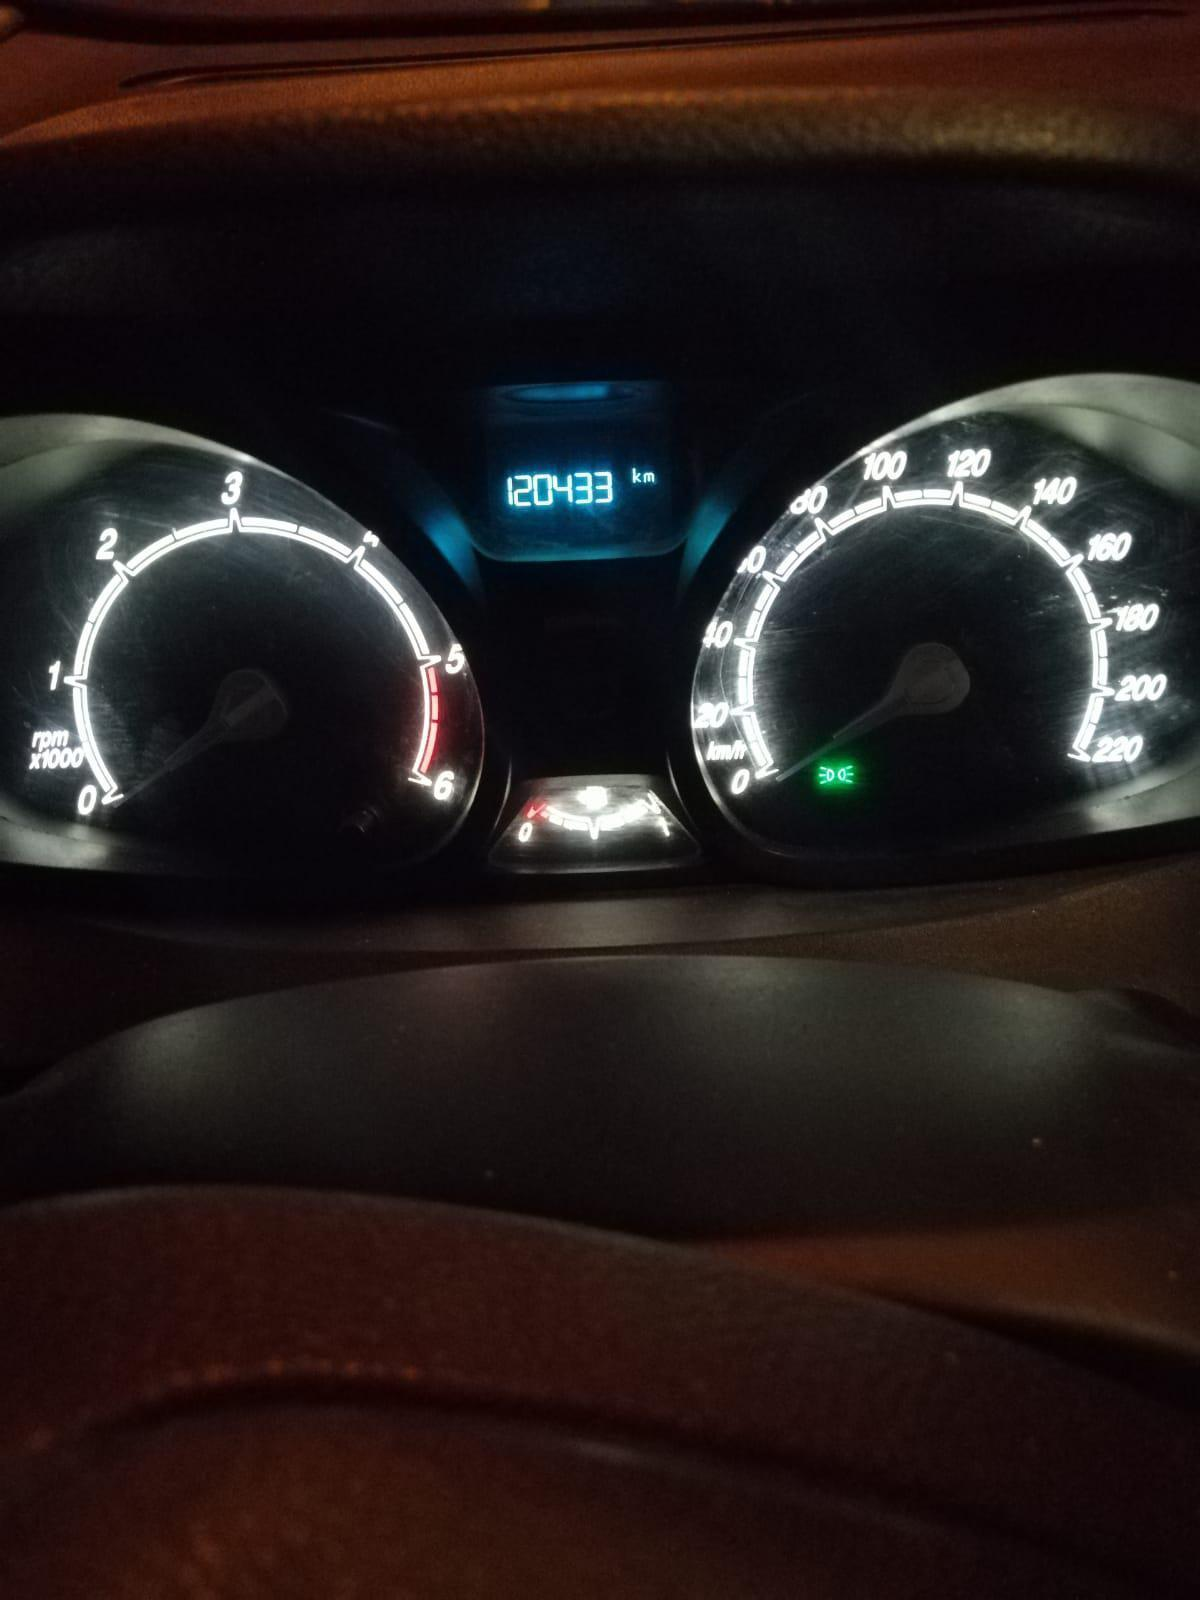0: (533, 470, 555, 506)
1: (500, 469, 516, 515)
2: (513, 471, 531, 509)
3: (594, 469, 614, 506), (574, 470, 591, 506)
4: (553, 472, 574, 506)
X: (632, 464, 642, 484), (642, 470, 655, 484)
odometer: (485, 447, 672, 537)
